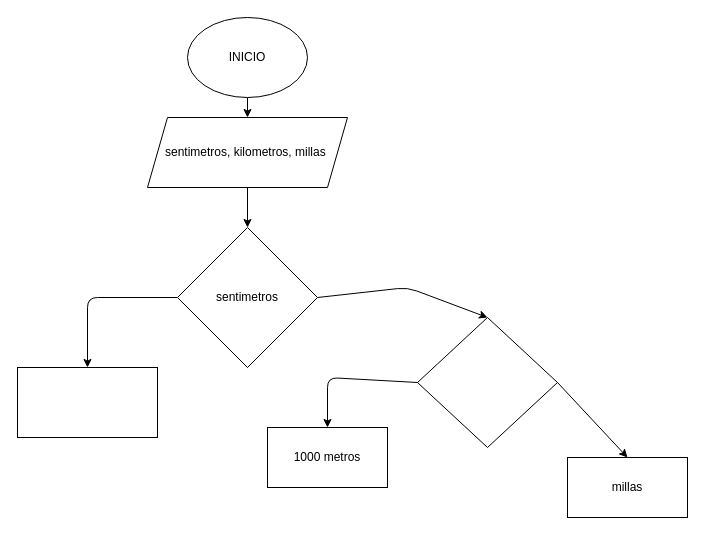
Some shapes in this 705 by 535 pixel diagram are drawn without their labels. The shapes that lost their labels are listed below. From the top down, each one's centre as x and y in pixels, then its label:
At pixel 87 402: "100 cm".
At pixel 487 382: "kilometros".
